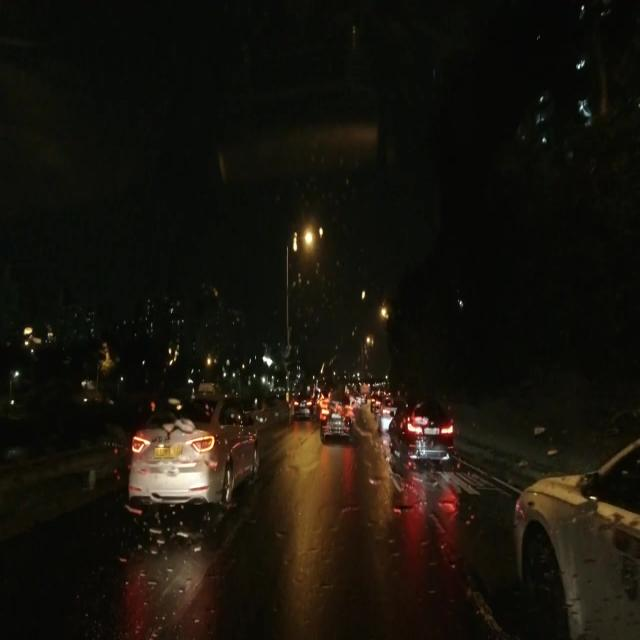Car: (515, 423, 637, 639), (128, 398, 255, 507), (390, 393, 453, 457), (317, 392, 351, 438), (293, 389, 312, 416)
